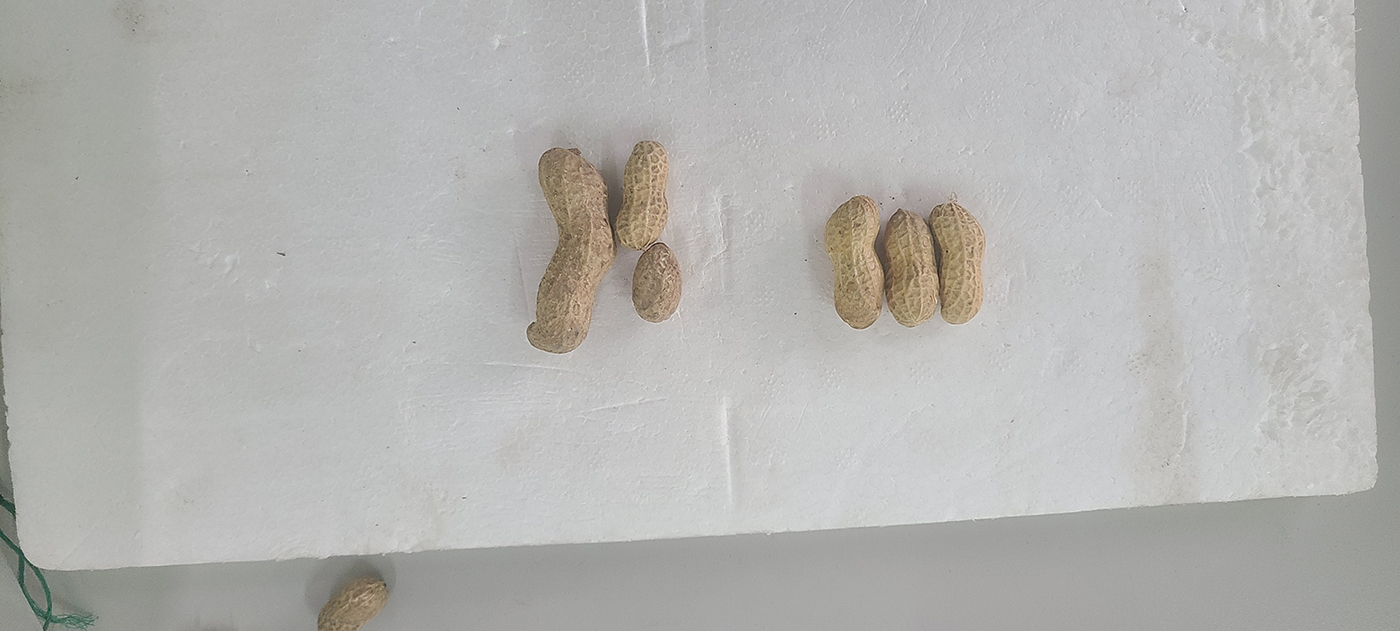h: (524, 147, 617, 354), (821, 195, 886, 326), (927, 203, 987, 324), (884, 208, 940, 327), (614, 141, 671, 250), (316, 577, 391, 631)
l: (633, 241, 684, 323)
